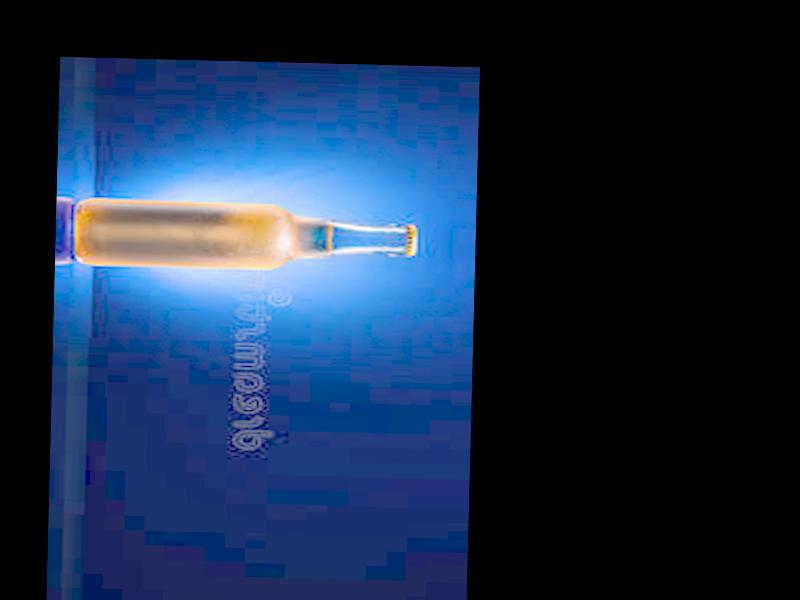Beer: (74, 195, 417, 275)
